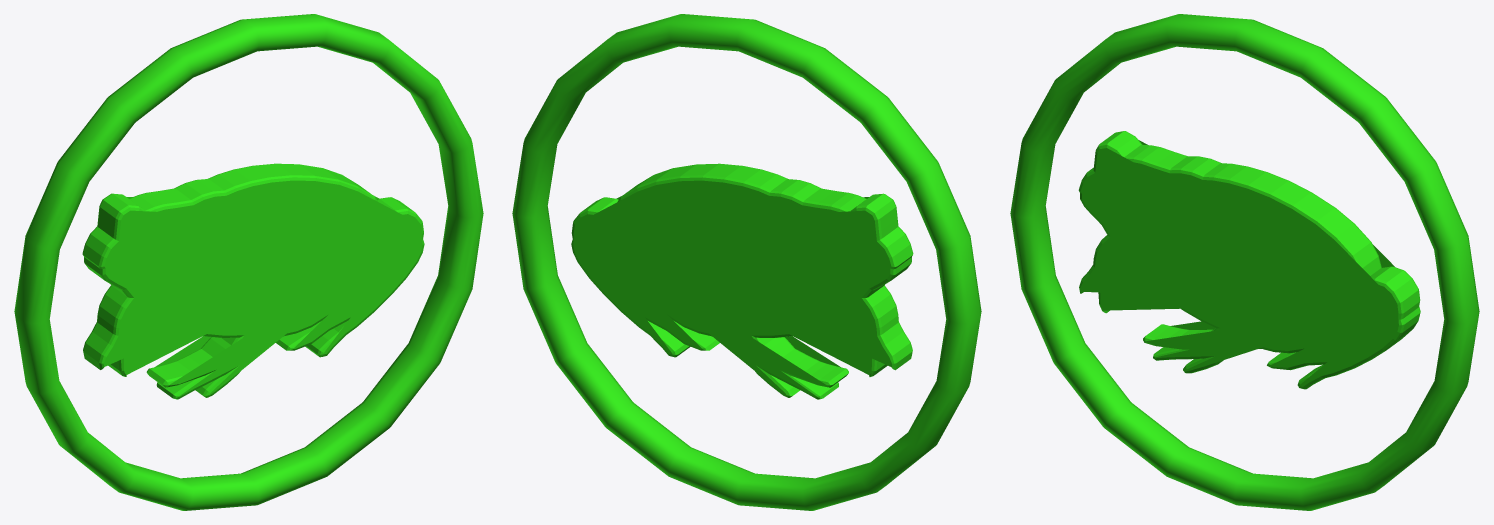
File: 15_Buff_bounce.fbx
3 renders of one model, left to right at view 1: azimuth 30°, elevation 25°; view 2: azimuth 150°, elevation 25°; view 3: azimuth 330°, elevation 25°, orthographic.
Visible parts, largest first — view 1: 15_Buff_bounce; view 2: 15_Buff_bounce; view 3: 15_Buff_bounce.
Part boxes in pixels (left/top/right/bottom): 15_Buff_bounce: left=14, top=14, right=483, bottom=510; 15_Buff_bounce: left=512, top=14, right=981, bottom=510; 15_Buff_bounce: left=1010, top=14, right=1479, bottom=510.
Size of the model in its own units: 116 by 116 by 8.74.
